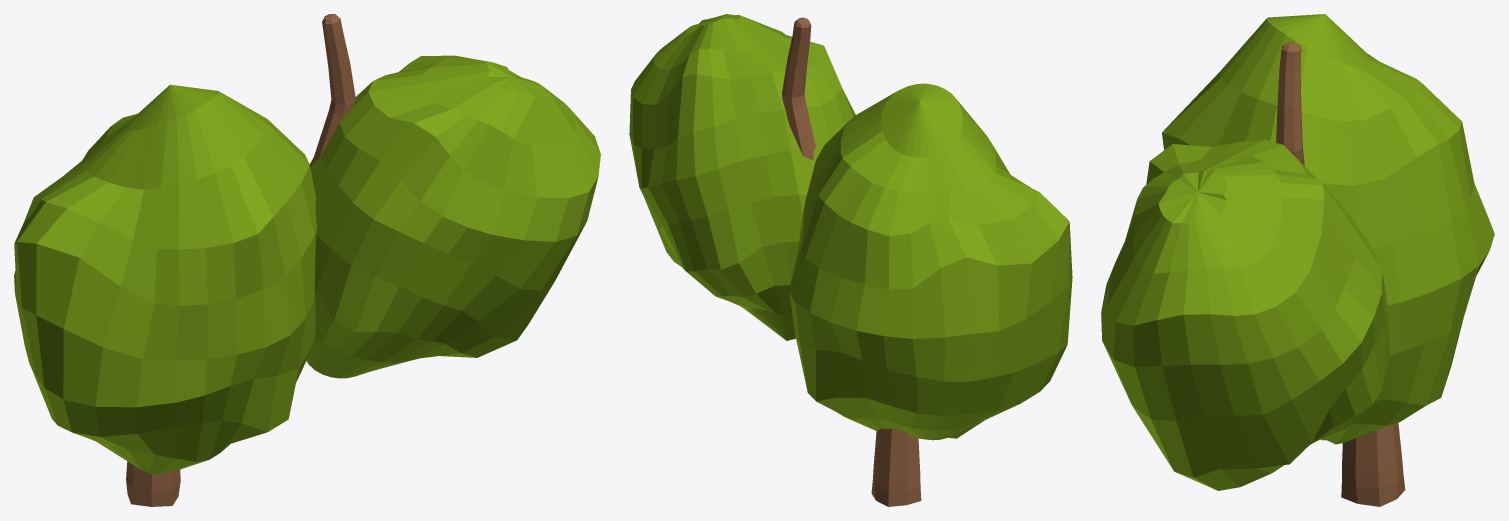
The model's file is tree-summer-complete-12-055.glb.
The picture shows the model from 3 angles, left to right: view 1: azimuth 30°, elevation 25°; view 2: azimuth 150°, elevation 25°; view 3: azimuth 270°, elevation 25°; orthographic projection. The views are drawn at different scales.
Visible parts, largest first — view 1: TREE 12_284, TREE 12.001_285; view 2: TREE 12_284, TREE 12.001_285; view 3: TREE 12_284, TREE 12.001_285.
Part boxes in pixels (<box>): TREE 12_284: <box>14,55,600,475</box>; TREE 12.001_285: <box>126,14,355,506</box>; TREE 12_284: <box>629,14,1072,440</box>; TREE 12.001_285: <box>782,17,921,506</box>; TREE 12_284: <box>1101,14,1494,490</box>; TREE 12.001_285: <box>1276,42,1405,506</box>.
Bounding box in the file's own units: 1.4 × 1.23 × 0.828.
